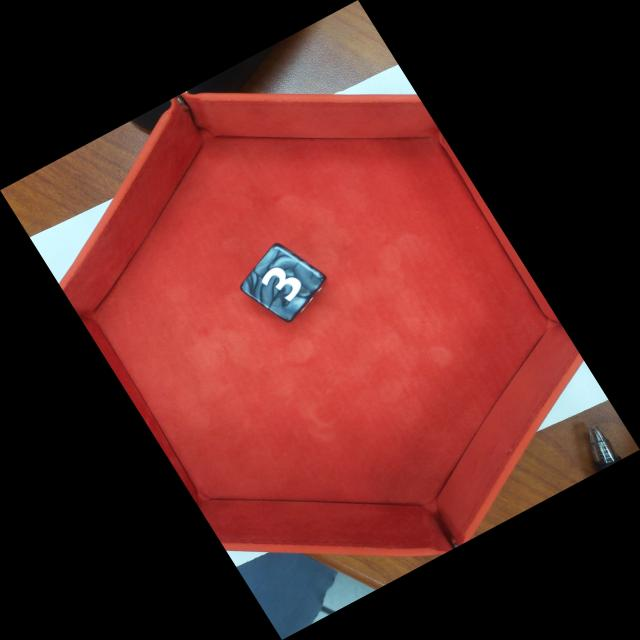dice: (247, 242, 327, 324)
